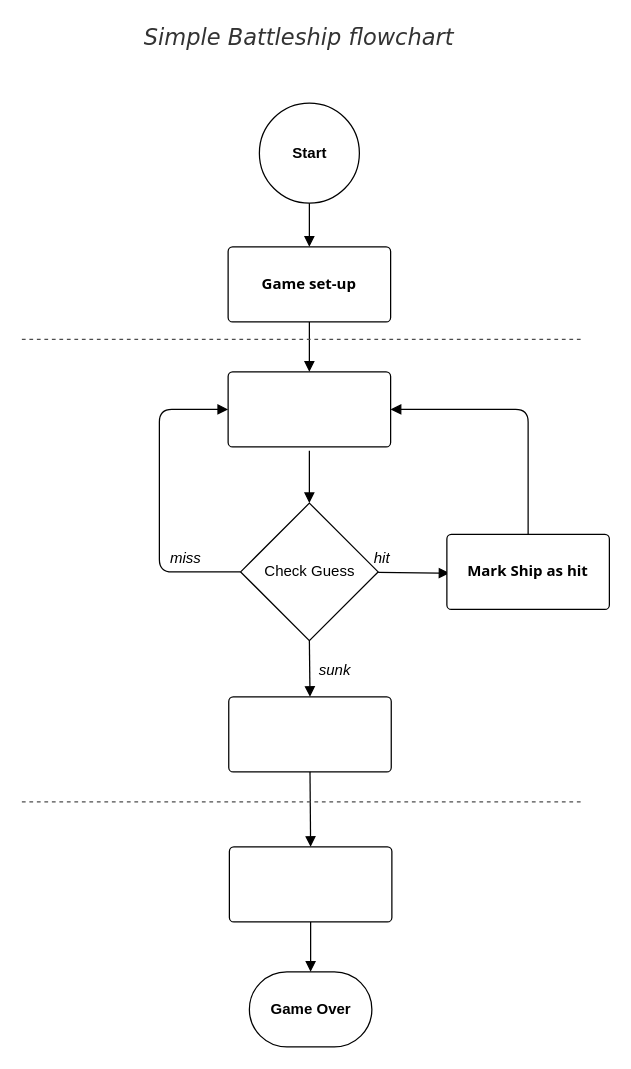
This 631x1069 diagram has some shape labels left out. Each missing label, with the centre of its shape:
Mark ship as sunk: the point at 309,734
race evaluation: the point at 310,884
split league: the point at 309,409
